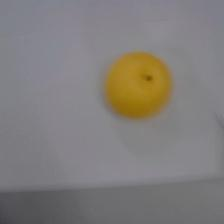yellow: (104, 51, 172, 119)
